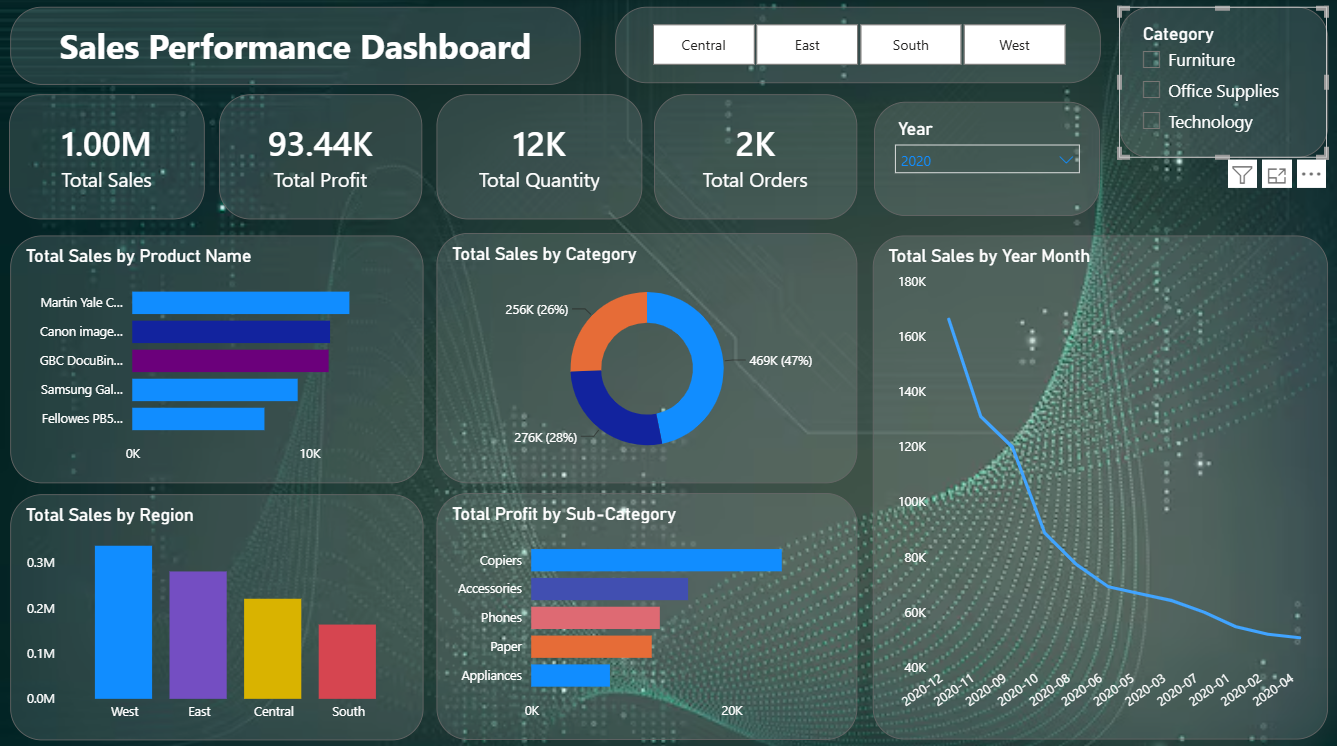

The page's visual inventory and layout, read from the dashboard file:
{"tool":"powerbi","page":{"name":"Page 1","canvas":[1280,720],"ordinal":0},"visuals":[{"type":"cardVisual","fields":{"Data":["DateTable.Total Sales"]},"box":[9.6,91.9,186.6,119.4],"z":0},{"type":"cardVisual","fields":{"Data":["DateTable.Total Profit"]},"box":[209.9,91.9,193.5,119.4],"z":1000},{"type":"cardVisual","fields":{"Data":["DateTable.Total Quantity"]},"box":[417.2,91.9,196.2,119.4],"z":2000},{"type":"cardVisual","fields":{"Data":["DateTable.Total Orders"]},"box":[624.4,91.9,193.5,119.4],"z":3000},{"type":"textbox","box":[11,8.2,543.4,74.1],"z":4000},{"type":"lineChart","fields":{"Category":["DateTable.Year Month"],"Y":["DateTable.Total Sales"]},"box":[831.6,226.4,433.6,480.3],"z":5000},{"type":"clusteredColumnChart","fields":{"Category":["Superstore_sales_dataset.Region"],"Y":["DateTable.Total Sales"]},"box":[11,472,393.8,234.6],"z":6000},{"type":"donutChart","fields":{"Category":["Superstore_sales_dataset.Category"],"Y":["DateTable.Total Sales"]},"box":[417.2,223.7,400.7,238.8],"z":7000},{"type":"clusteredBarChart","fields":{"Category":["Superstore_sales_dataset.Sub-Category"],"Y":["DateTable.Total Profit"]},"box":[417,472,401,235],"z":8000},{"type":"clusteredBarChart","fields":{"Category":["Superstore_sales_dataset.Product Name"],"Y":["DateTable.Total Sales"]},"box":[11,226.4,393.8,236],"z":9000},{"type":"slicer","fields":{"Values":["Superstore_sales_dataset.Region"]},"box":[587.3,8.2,462.4,72.7],"z":10000},{"type":"slicer","fields":{"Values":["Superstore_sales_dataset.Category"]},"box":[1066.2,8.2,199,144.1],"z":11000},{"type":"slicer","fields":{"Values":["DateTable.Year"]},"box":[832.9,98.8,215.4,108.4],"z":12000}]}

Visuals, with their boxes in screenshot pixels (x1, y1, x2, y2), scaled from the page's 1280x720 canvas onto the 1337x746 screenshot:
cardVisual - DateTable.Total Sales: left=10, top=95, right=205, bottom=219
cardVisual - DateTable.Total Profit: left=219, top=95, right=421, bottom=219
cardVisual - DateTable.Total Quantity: left=436, top=95, right=641, bottom=219
cardVisual - DateTable.Total Orders: left=652, top=95, right=854, bottom=219
textbox: left=11, top=8, right=579, bottom=85
lineChart - DateTable.Year Month x DateTable.Total Sales: left=869, top=235, right=1322, bottom=732
clusteredColumnChart - Superstore_sales_dataset.Region x DateTable.Total Sales: left=11, top=489, right=423, bottom=732
donutChart - Superstore_sales_dataset.Category x DateTable.Total Sales: left=436, top=232, right=854, bottom=479
clusteredBarChart - Superstore_sales_dataset.Sub-Category x DateTable.Total Profit: left=436, top=489, right=854, bottom=733
clusteredBarChart - Superstore_sales_dataset.Product Name x DateTable.Total Sales: left=11, top=235, right=423, bottom=479
slicer - Superstore_sales_dataset.Region: left=613, top=8, right=1096, bottom=84
slicer - Superstore_sales_dataset.Category: left=1114, top=8, right=1322, bottom=158
slicer - DateTable.Year: left=870, top=102, right=1095, bottom=215
